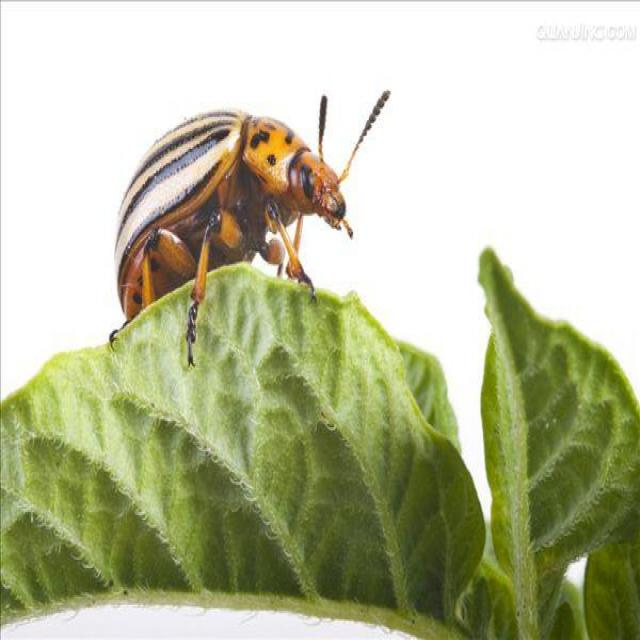ShuCaiHuaBanChong-Grown-: (104, 95, 367, 338)
